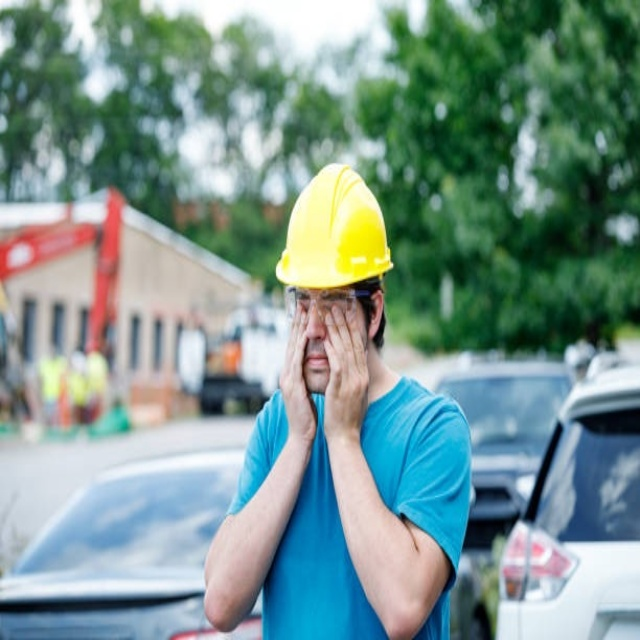Gafas: (284, 284, 362, 322)
Sin_guantes: (318, 296, 373, 430), (275, 295, 310, 435)
Sin_mascara: (305, 348, 326, 387)
